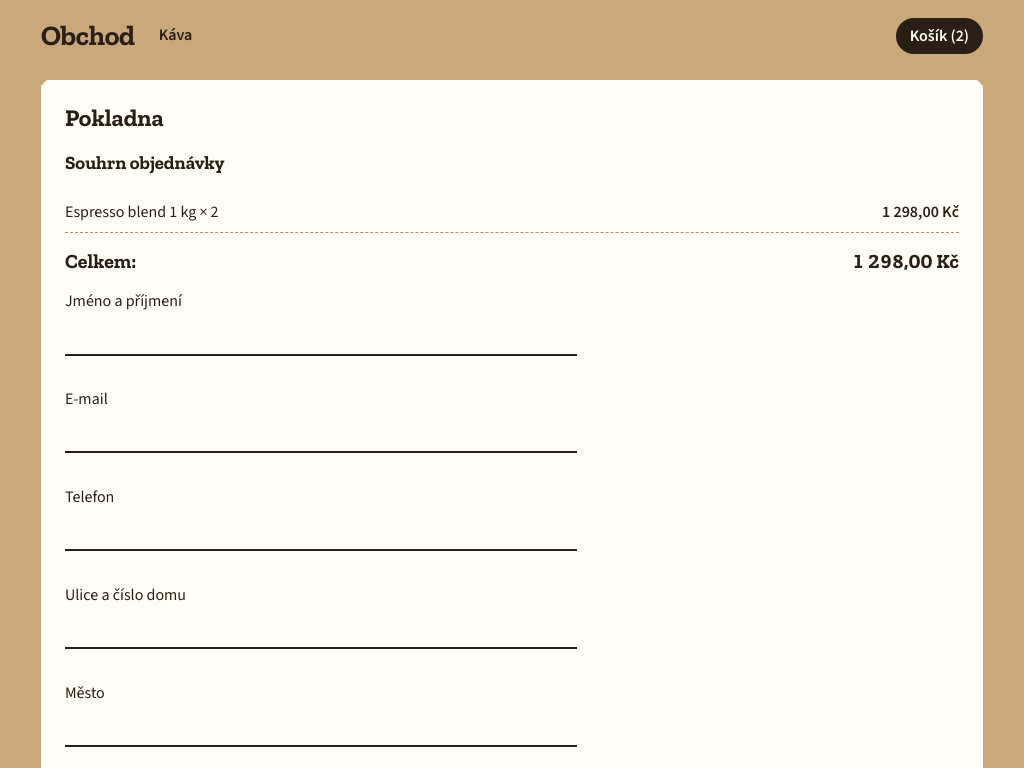
clears the cart after placing the order
This screenshot has width=1024, height=768.
Type "Jan Novák" into the field labelled "Jméno a příjmení".
click(321, 336); type("Jan Novák")  # box [65, 317, 577, 356]
Type "jan@example.com" into the field labelled "E-mail".
click(321, 434); type("jan@example.com")  # box [65, 415, 577, 454]
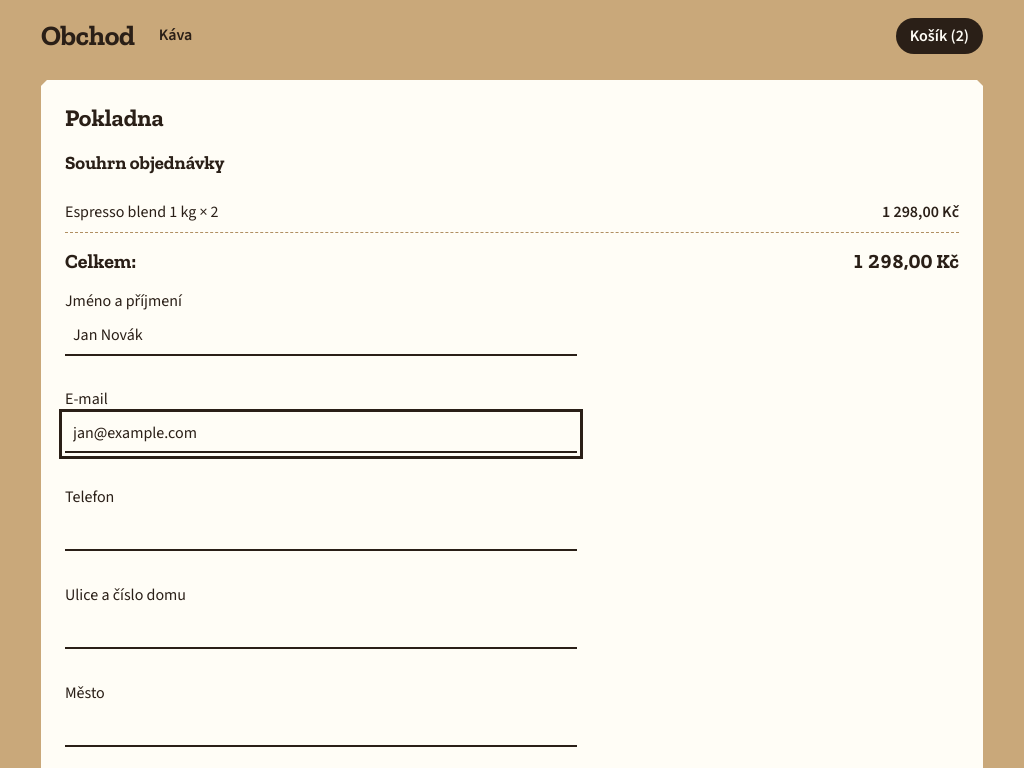
Type "777123456" into the field labelled "Telefon".
click(321, 532); type("777123456")  # box [65, 513, 577, 552]
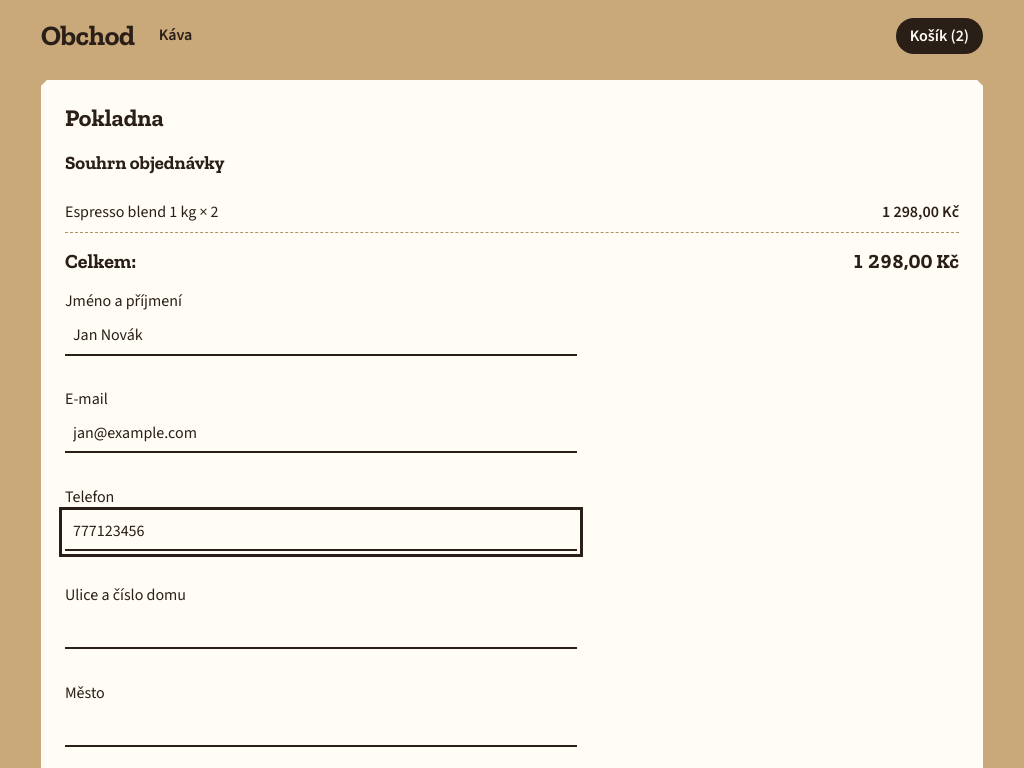
Type "Dlouhá 1" into the field labelled "Ulice a číslo domu".
click(321, 630); type("Dlouhá 1")  # box [65, 611, 577, 649]
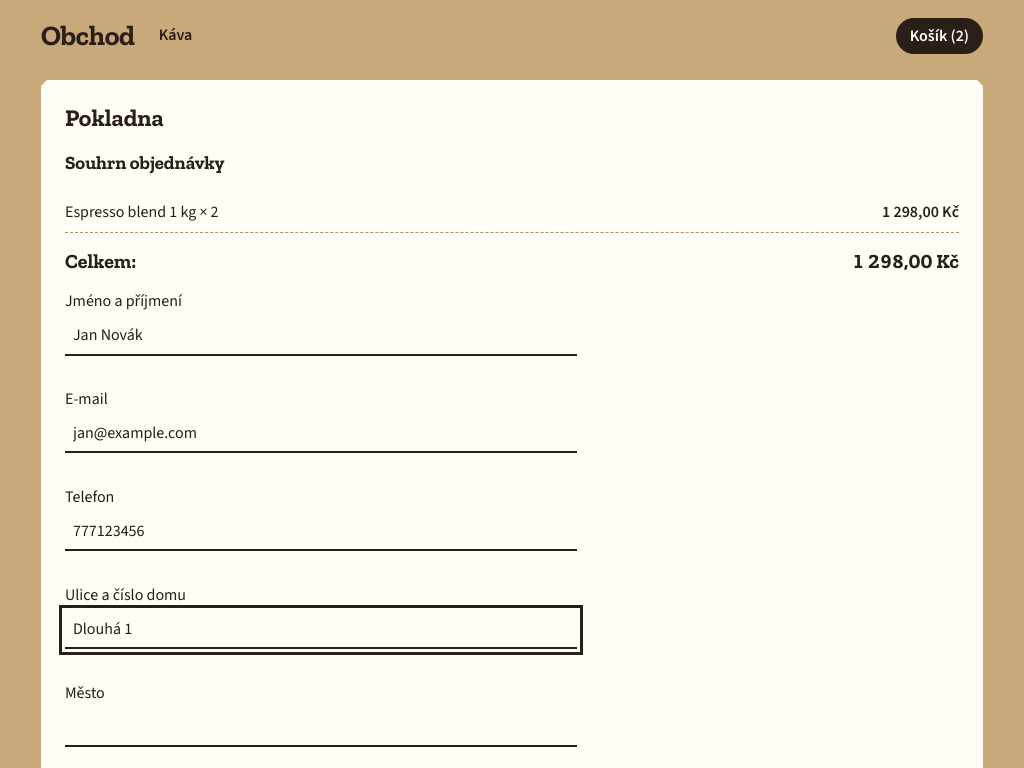
Type "Praha" into the field labelled "Město".
click(321, 728); type("Praha")  # box [65, 709, 577, 747]
(page scrolled)
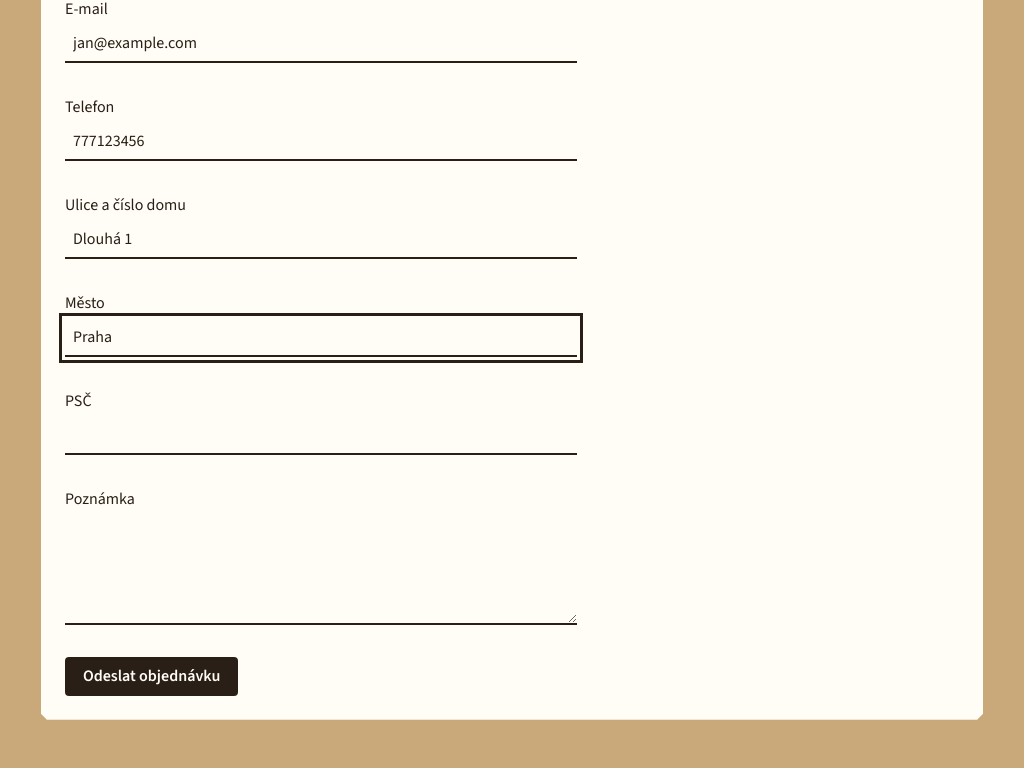
Type "110 00" into the field labelled "PSČ".
click(321, 436); type("110 00")  # box [65, 417, 577, 455]
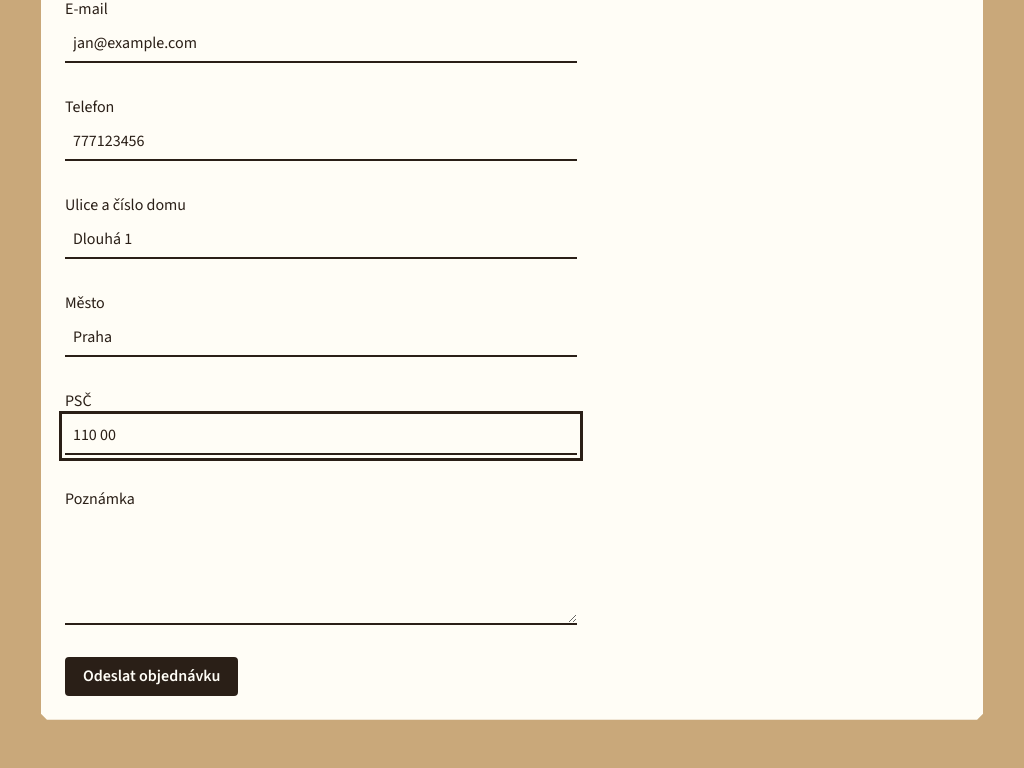
Click the button "Odeslat objednávku".
click(152, 676)  # box [65, 656, 238, 696]
(page scrolled)
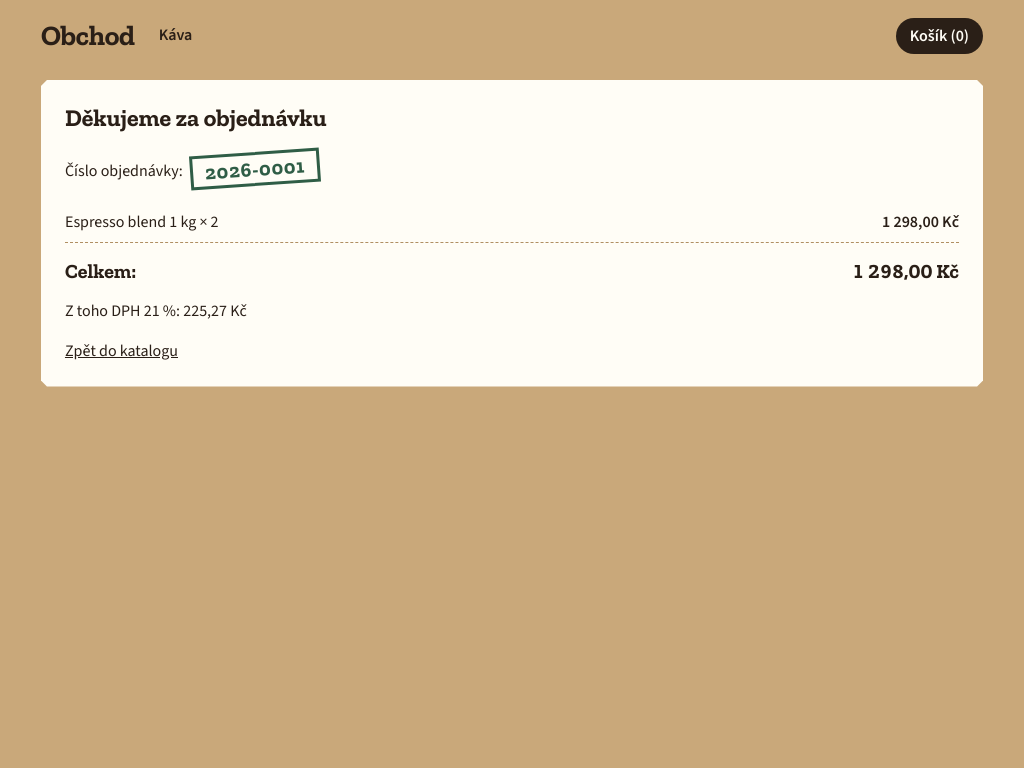
Result: the heading "Děkujeme za objednávku" is shown at [65, 103, 327, 132]
Result: the text "2026-0001" is shown at [189, 147, 321, 190]
Result: the link "Košík (0)" is shown at [896, 18, 983, 54]
